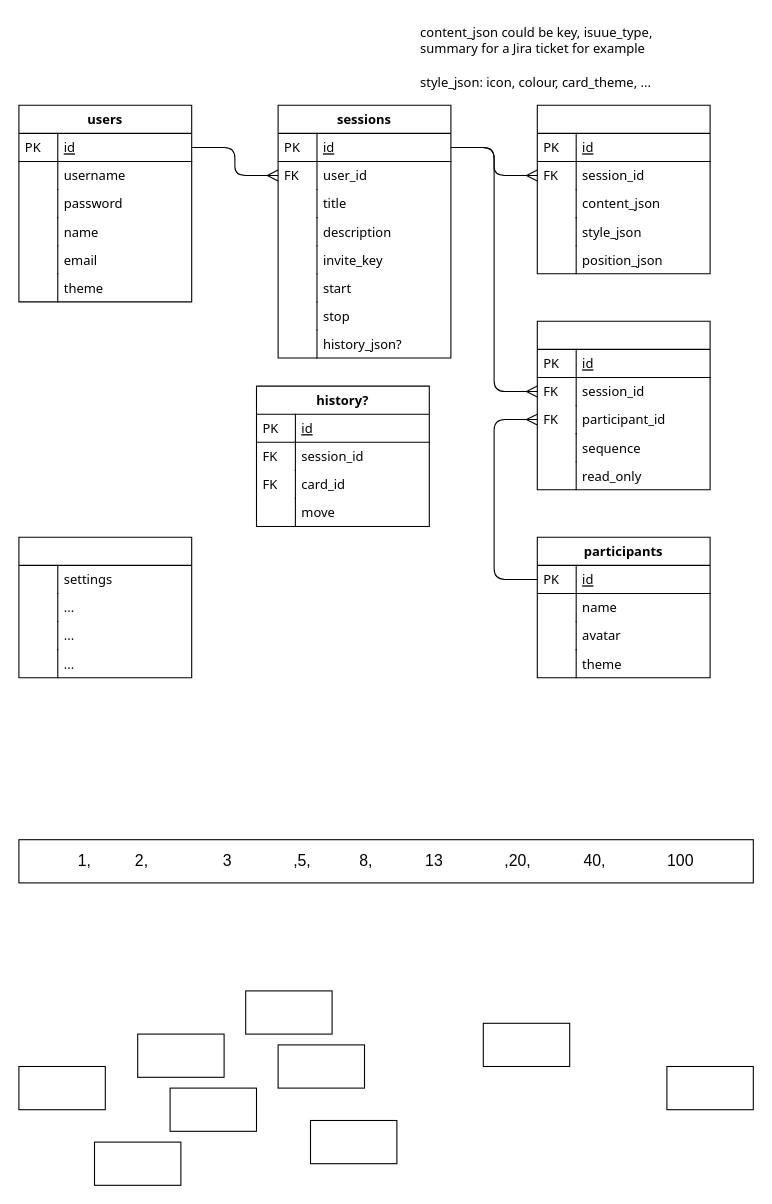
This 772x1204 diagram has some shape labels left out. The shapes that lost their labels are listed below. From the top down, each one's box as (x1, y1, x2, y2) in pixels, then its label:
(536, 104, 710, 274): cards
(536, 320, 710, 490): players
(18, 536, 192, 678): app?
